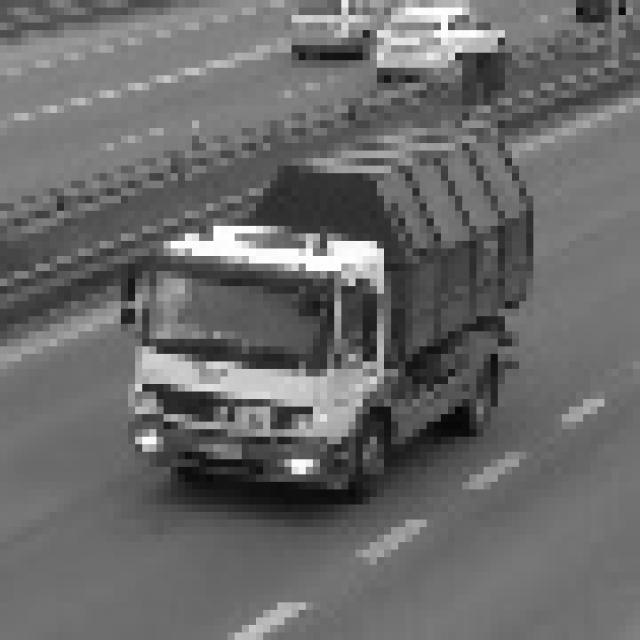truck: (121, 120, 534, 490)
